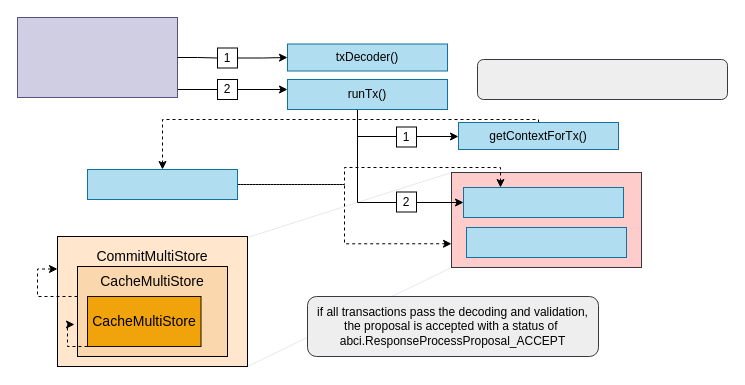
Some shapes in this 745 by 385 pixel diagram are drawn without their labels. The shapes that lost their labels are listed below. From the top down, each one's centre as x and y in pixels, then its label:
point (97, 57): ProcessProposal
point (602, 79): if either of these fail, return abci.ResponseProcessProposal_REJECT}
point (162, 184): cacheTxContext
point (543, 202): anteHandler()
point (546, 242): runMsgs()
